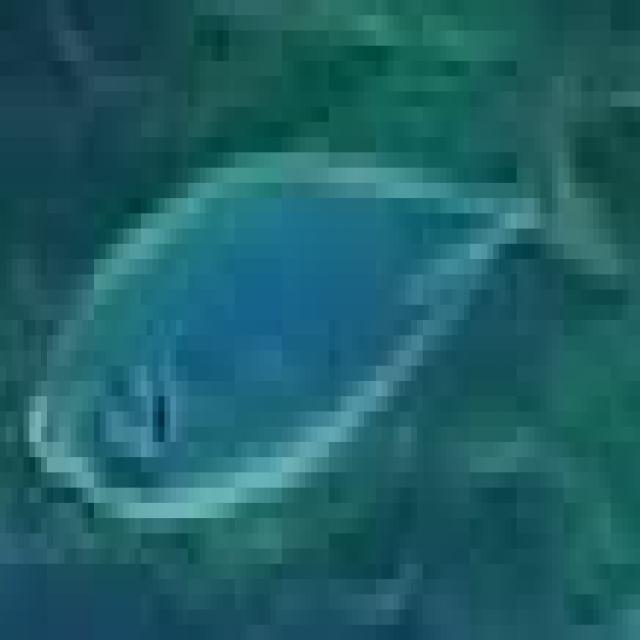fish: (6, 0, 640, 625)
